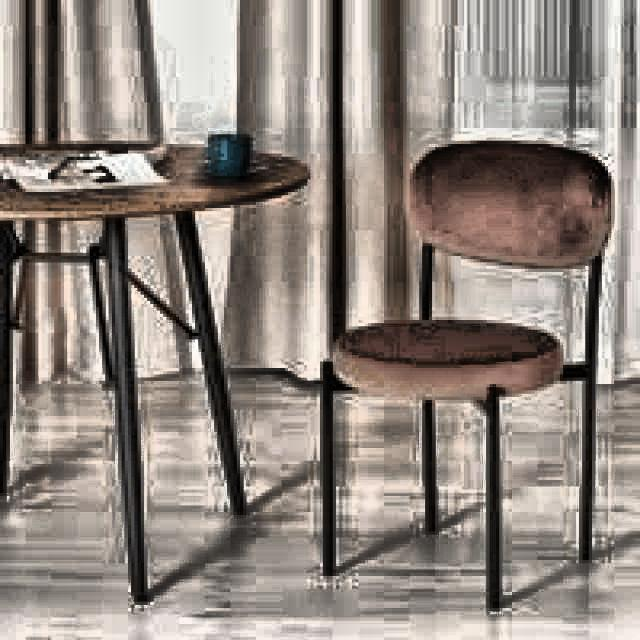cadeira: (312, 134, 617, 614), (322, 140, 612, 402)
